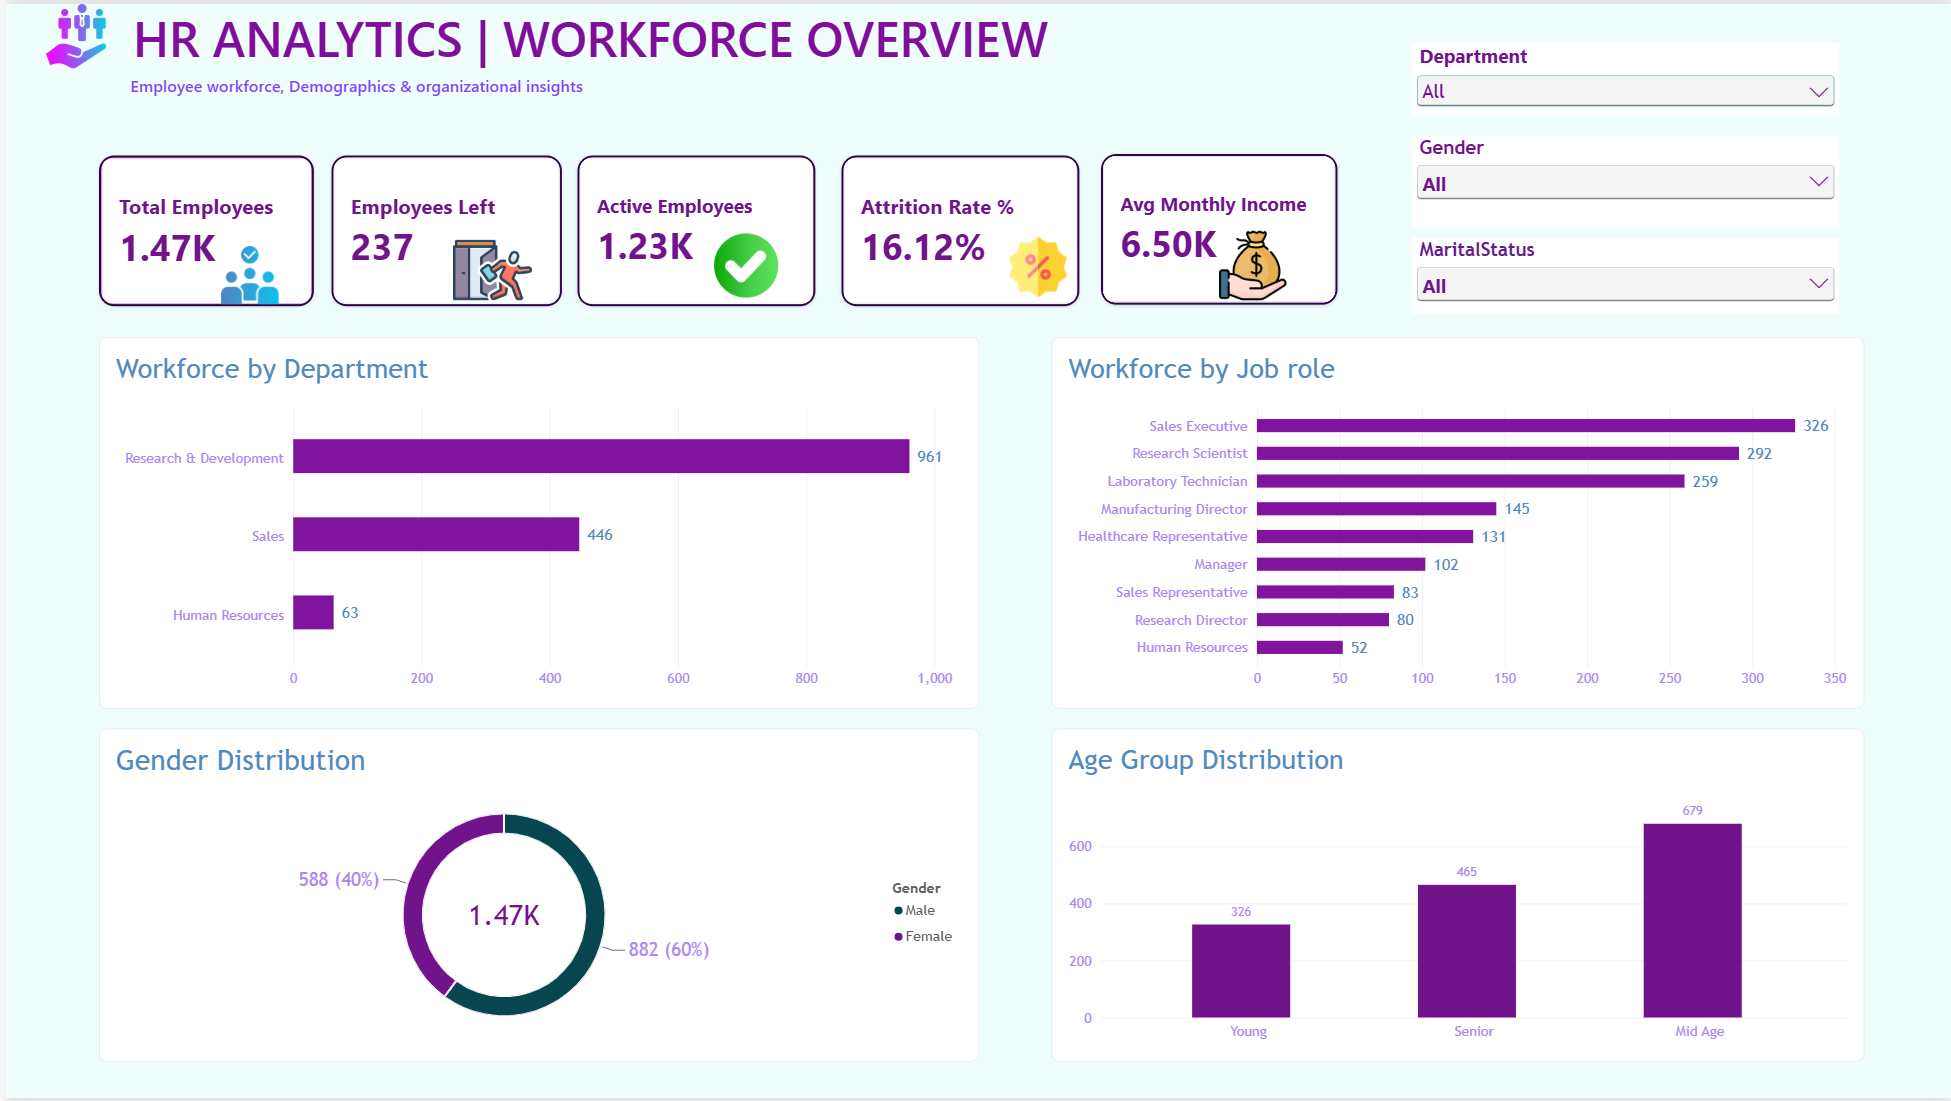

What the dashboard file says about the page in this screenshot:
{"tool":"powerbi","page":{"name":"Workforce overview","canvas":[1920,1080],"ordinal":0},"visuals":[{"type":"textbox","box":[15,0,1124,76.7],"z":0},{"type":"image","box":[15,0,108.3,63.3],"z":1000},{"type":"textbox","box":[123.4,70,1414.2,258.5],"z":2000},{"type":"cardVisual","fields":{"Data":["analytics_db employee_attrition.Total_Employees"]},"box":[91.7,149,212,149],"z":3000},{"type":"cardVisual","fields":{"Data":["analytics_db employee_attrition.Attrition Rate %"]},"box":[825,149,234.9,149],"z":4000},{"type":"cardVisual","fields":{"Data":["analytics_db employee_attrition.Active_Employees"]},"box":[563.4,149,234.9,149],"z":5000},{"type":"cardVisual","fields":{"Data":["analytics_db employee_attrition.Avg Monthly Income"]},"box":[1080.6,148.4,233.5,148.4],"z":6000},{"type":"cardVisual","fields":{"Data":["analytics_db employee_attrition.Employees Left"]},"box":[320.9,149,227.3,149],"z":7000},{"type":"image","box":[191,236.8,99.3,61.1],"z":8000},{"type":"image","box":[441.2,223.4,78.3,78.3],"z":9000},{"type":"image","box":[699,219.6,63,78.3],"z":10000},{"type":"image","box":[988.9,220.1,59.2,78.3],"z":11000},{"type":"image","box":[1195.5,219.6,68.8,78.3],"z":12000},{"type":"clusteredBarChart","title":"Workforce by Department","fields":{"Category":["analytics_db employee_attrition.Department"],"Y":["CountNonNull(analytics_db employee_attrition.EmployeeNumber)"]},"box":[91.7,328.5,869,366.7],"z":13000},{"type":"barChart","title":"Workforce by Job role","fields":{"Category":["analytics_db employee_attrition.JobRole"],"Y":["CountNonNull(analytics_db employee_attrition.EmployeeNumber)"]},"box":[1031.3,328.5,802.1,366.7],"z":14000},{"type":"donutChart","title":"Gender Distribution","fields":{"Category":["analytics_db employee_attrition.Gender"],"Y":["CountNonNull(analytics_db employee_attrition.EmployeeNumber)"]},"box":[91.7,714.3,869,328.5],"z":15000},{"type":"columnChart","title":"Age Group Distribution","fields":{"Category":["analytics_db employee_attrition.Age_Group"],"Y":["CountNonNull(analytics_db employee_attrition.EmployeeNumber)"]},"box":[1031.3,714.3,802.1,328.5],"z":16000},{"type":"slicer","fields":{"Values":["analytics_db employee_attrition.Department"]},"box":[1386.5,38.2,422.1,72.6],"z":17000},{"type":"slicer","fields":{"Values":["analytics_db employee_attrition.Gender"]},"box":[1386.5,129.9,422.1,89.8],"z":18000},{"type":"slicer","fields":{"Values":["analytics_db employee_attrition.MaritalStatus"]},"box":[1386.5,231.1,422.1,74.5],"z":19000}]}

Visuals, with their boxes in screenshot pixels (x1, y1, x2, y2), scaled from the page's 1920x1080 canvas onto the 1951x1101 screenshot:
textbox: l=15, t=0, r=1157, b=78
image: l=15, t=0, r=125, b=65
textbox: l=125, t=71, r=1562, b=335
cardVisual - analytics_db employee_attrition.Total_Employees: l=93, t=152, r=309, b=304
cardVisual - analytics_db employee_attrition.Attrition Rate %: l=838, t=152, r=1077, b=304
cardVisual - analytics_db employee_attrition.Active_Employees: l=572, t=152, r=811, b=304
cardVisual - analytics_db employee_attrition.Avg Monthly Income: l=1098, t=151, r=1335, b=303
cardVisual - analytics_db employee_attrition.Employees Left: l=326, t=152, r=557, b=304
image: l=194, t=241, r=295, b=304
image: l=448, t=228, r=528, b=308
image: l=710, t=224, r=774, b=304
image: l=1005, t=224, r=1065, b=304
image: l=1215, t=224, r=1285, b=304
"Workforce by Department" clusteredBarChart: l=93, t=335, r=976, b=709
"Workforce by Job role" barChart: l=1048, t=335, r=1863, b=709
"Gender Distribution" donutChart: l=93, t=728, r=976, b=1063
"Age Group Distribution" columnChart: l=1048, t=728, r=1863, b=1063
slicer - analytics_db employee_attrition.Department: l=1409, t=39, r=1838, b=113
slicer - analytics_db employee_attrition.Gender: l=1409, t=132, r=1838, b=224
slicer - analytics_db employee_attrition.MaritalStatus: l=1409, t=236, r=1838, b=312
